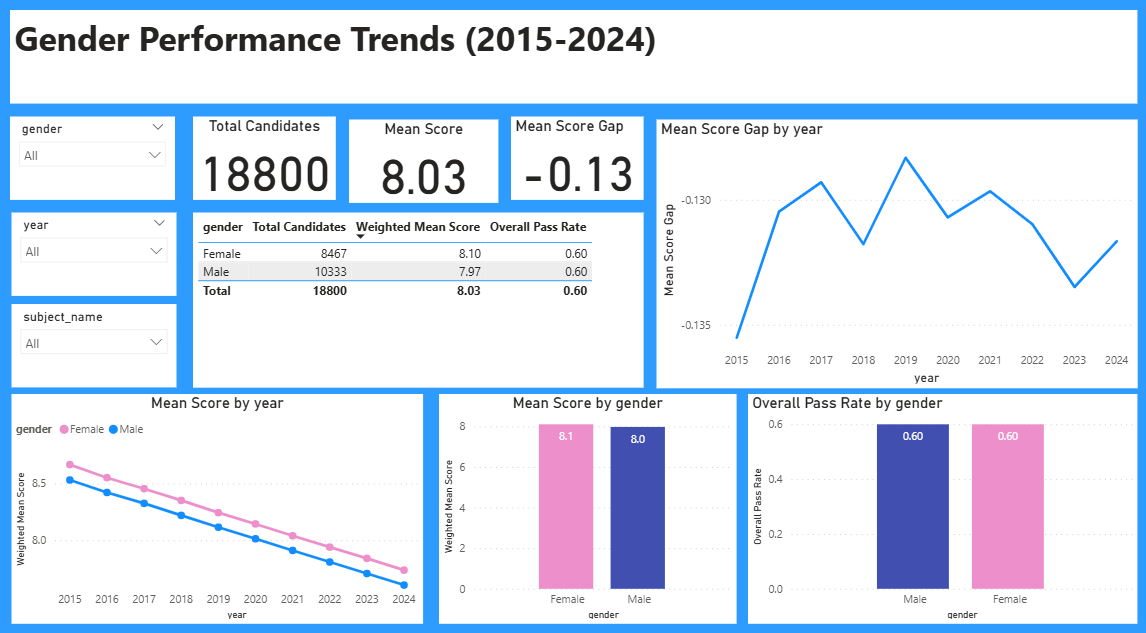

The page's visual inventory and layout, read from the dashboard file:
{"tool":"powerbi","page":{"name":"Gender Performance","canvas":[1280,720],"ordinal":2},"visuals":[{"type":"slicer","fields":{"Values":["dim_year.year"]},"box":[15.1,238.1,183.3,92.6],"z":0},{"type":"textbox","box":[13.2,13.2,1252.9,103.9],"z":1000},{"type":"slicer","fields":{"Values":["dim_subject.subject_name"]},"box":[15.1,340.2,183.3,92.6],"z":2000},{"type":"card","title":"Total Candidates","fields":{"Values":["dim_gender.Total Candidates"]},"box":[217.3,132.3,158.7,92.6],"z":3000},{"type":"card","title":"Mean Score","fields":{"Values":["dim_gender.Mean Score"]},"box":[389.3,134.2,166.3,92.6],"z":4000},{"type":"slicer","fields":{"Values":["dim_gender.gender"]},"box":[13.2,132.3,183.3,92.6],"z":5000},{"type":"clusteredColumnChart","title":"Mean Score by gender","fields":{"Category":["dim_gender.gender"],"Y":["dim_gender.Weighted Mean Score"]},"box":[489.5,440.3,330.7,255.1],"z":6000},{"type":"lineChart","title":"Mean Score by year","fields":{"Category":["dim_year.year"],"Y":["dim_gender.Weighted Mean Score"],"Series":["dim_gender.gender"]},"box":[15.1,440.3,457.3,255.1],"z":7000},{"type":"columnChart","fields":{"Category":["dim_gender.gender"],"Y":["dim_gender.Overall Pass Rate"]},"box":[833.4,440.3,432.8,255.1],"z":8000},{"type":"tableEx","fields":{"Values":["dim_gender.gender","dim_gender.Total Candidates","dim_gender.Weighted Mean Score","dim_gender.Overall Pass Rate"]},"box":[217.3,238.1,500.8,194.6],"z":9000},{"type":"card","title":"Mean Score Gap","fields":{"Values":["dim_gender.Mean Score Gap"]},"box":[570.7,132.3,147.4,92.6],"z":10000},{"type":"lineChart","fields":{"Y":["dim_gender.Mean Score Gap"],"Category":["dim_year.year"]},"box":[731.3,134.2,534.8,298.6],"z":11000}]}

Visuals, with their boxes in screenshot pixels (x1, y1, x2, y2), scaled from the page's 1280x720 canvas onto the 1146x633 screenshot:
slicer - dim_year.year: (14, 209, 178, 291)
textbox: (12, 12, 1134, 103)
slicer - dim_subject.subject_name: (14, 299, 178, 381)
"Total Candidates" card: (195, 116, 337, 198)
"Mean Score" card: (349, 118, 497, 199)
slicer - dim_gender.gender: (12, 116, 176, 198)
"Mean Score by gender" clusteredColumnChart: (438, 387, 734, 611)
"Mean Score by year" lineChart: (14, 387, 423, 611)
columnChart - dim_gender.gender x dim_gender.Overall Pass Rate: (746, 387, 1134, 611)
tableEx - dim_gender.gender x dim_gender.Total Candidates: (195, 209, 643, 380)
"Mean Score Gap" card: (511, 116, 643, 198)
lineChart - dim_gender.Mean Score Gap x dim_year.year: (655, 118, 1134, 381)
